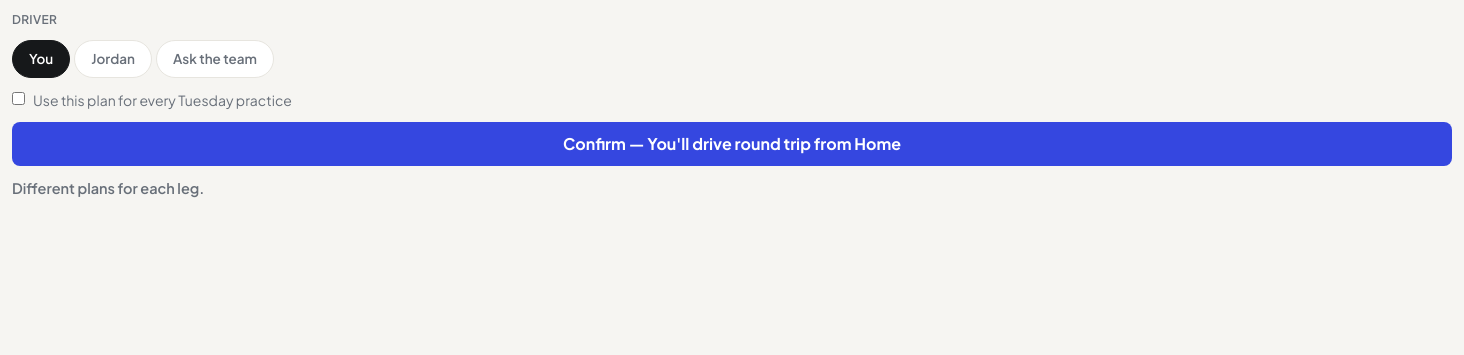
it: DriverPicker › hides Lock checkbox when Ask the team is selected
The image size is (1464, 355).
Expected: the text "Use this plan for every Tuesday practice" is shown, [12,91,292,109]
Click the button "Ask the team".
click(215, 59)  # box [156,40,274,78]
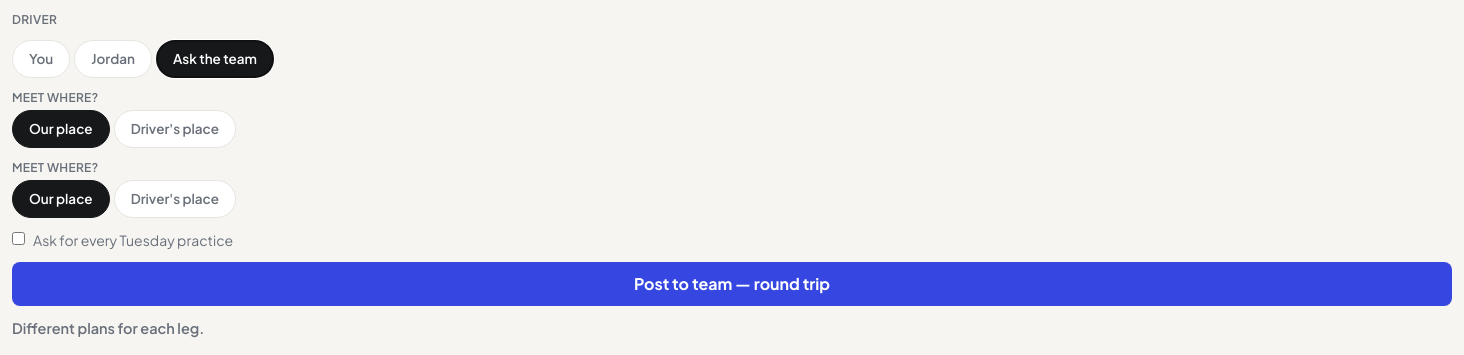
Result: the label with test id "driver-picker-lock-standing" is gone
Result: the text "Ask for every Tuesday practice" is shown at [12,231,233,249]
